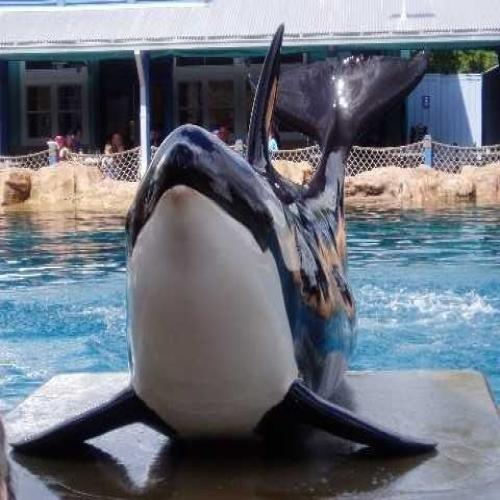killer_whale-endangered: (78, 34, 398, 472)
